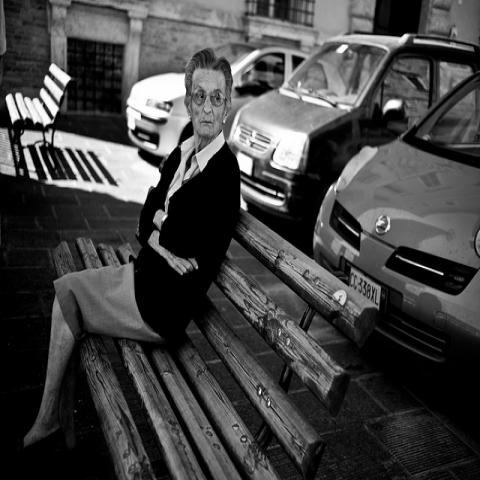car: (314, 72, 480, 374), (227, 31, 479, 228), (124, 38, 311, 161)
